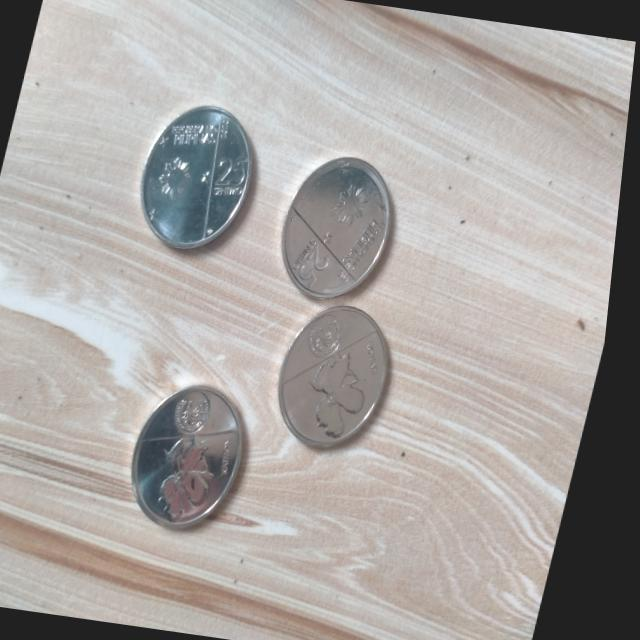25Cent_New_Back: (289, 314, 396, 438)
25Cent_New_Front: (292, 155, 400, 298)
